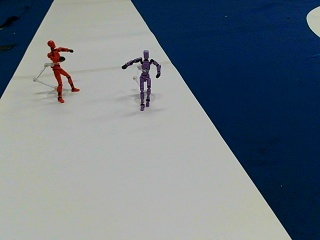pedestrian: (120, 50, 161, 109), (46, 39, 78, 101)
